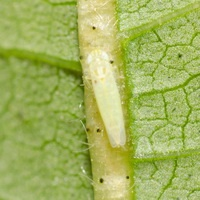insect: (117, 0, 199, 199)
